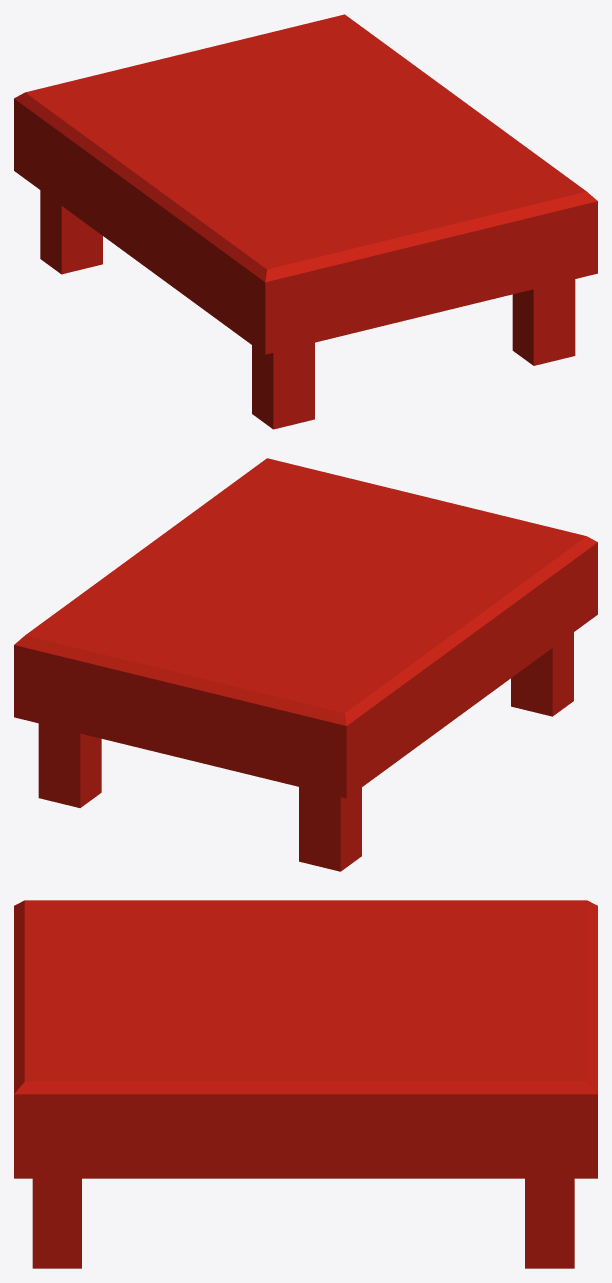
Rendered from bonsai base.FBX.
3 renders of one model, top to bottom at view 1: azimuth 30°, elevation 25°; view 2: azimuth 150°, elevation 25°; view 3: azimuth 270°, elevation 25°, orthographic. The views are drawn at different scales.
Visible parts, largest first — view 1: Box1228; view 2: Box1228; view 3: Box1228.
Boxes of the visible parts, x1,y1,x2,y2 form: Box1228: (14,14,597,429); Box1228: (14,458,597,871); Box1228: (14,900,597,1268).
Bounding box in the file's own units: 0.9318 × 0.4411 × 1.22.
